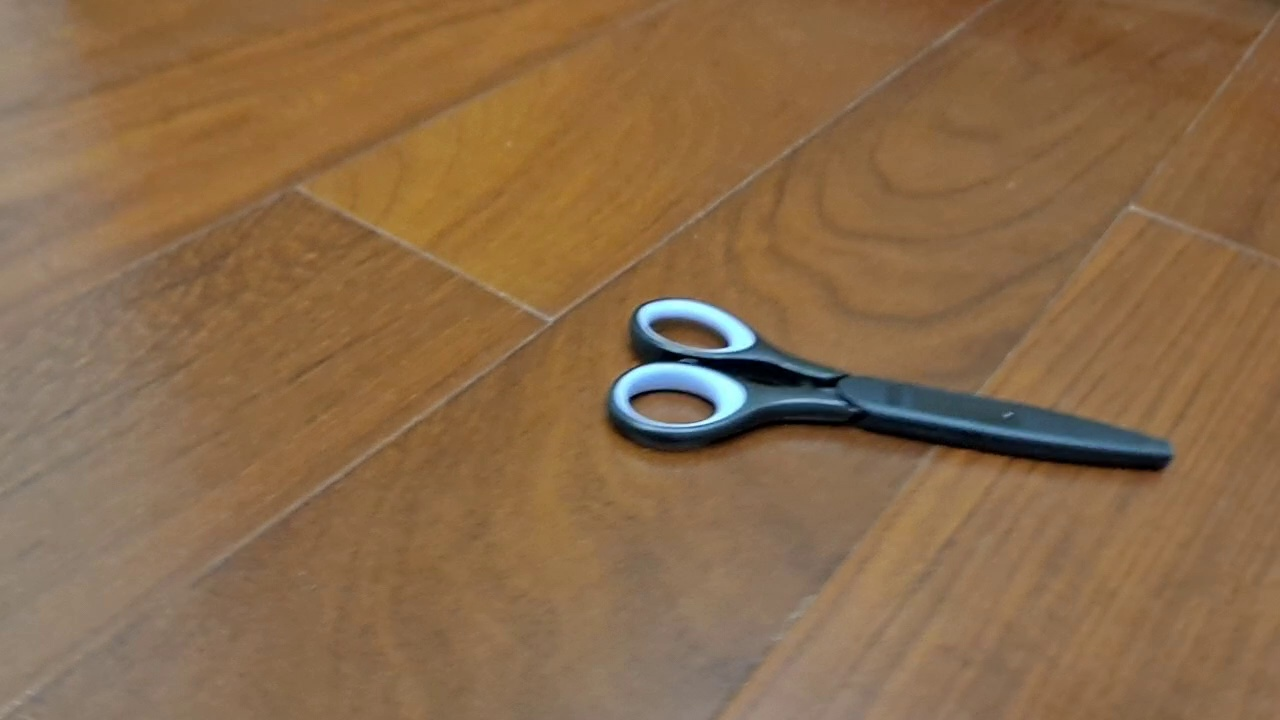scissors: (605, 296, 1176, 474)
